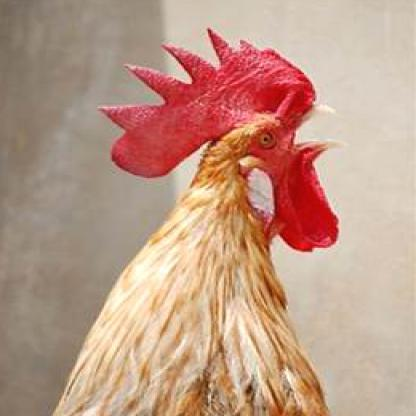chicken: (45, 26, 352, 414)
